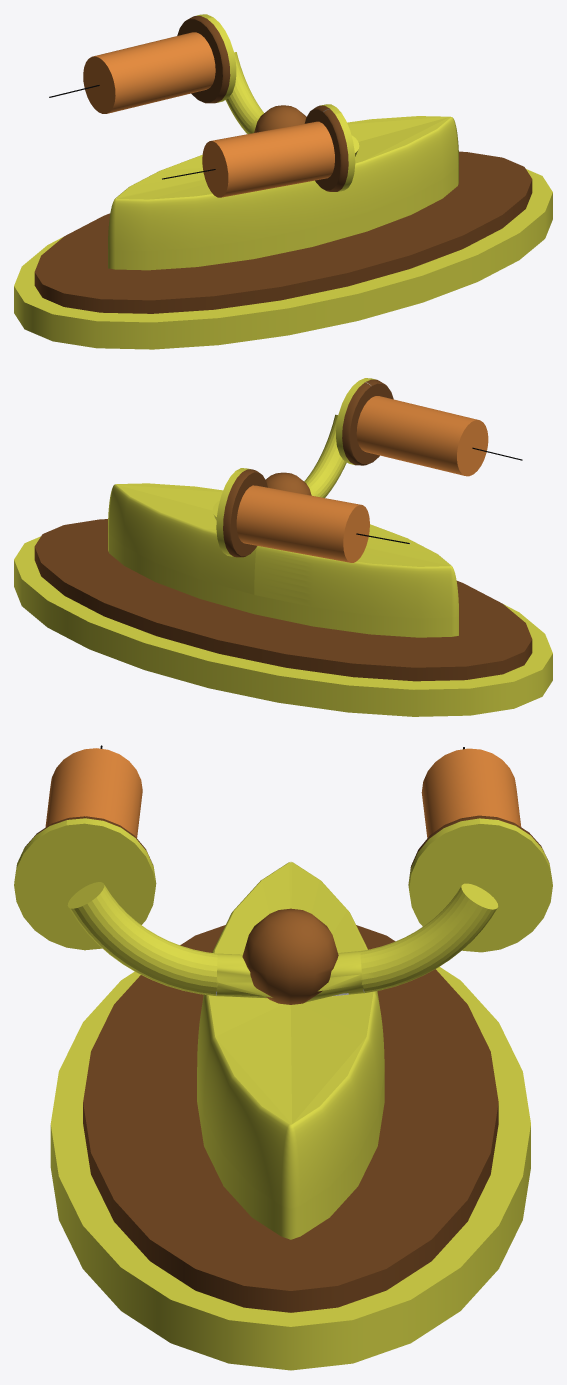
File: Candelabro1.fbx
The picture shows the model from 3 angles, top to bottom: view 1: azimuth 30°, elevation 25°; view 2: azimuth 150°, elevation 25°; view 3: azimuth 270°, elevation 25°; orthographic projection. The views are drawn at different scales.
Parts seen in each view (by area): view 1: Model; view 2: Model; view 3: Model.
Part boxes in pixels (box(x1,y1,x2,y2)): Model: box(14, 14, 552, 349); Model: box(14, 378, 552, 716); Model: box(14, 745, 552, 1370).
Bounding box in the file's own units: 0.4 × 0.1541 × 0.2244.
